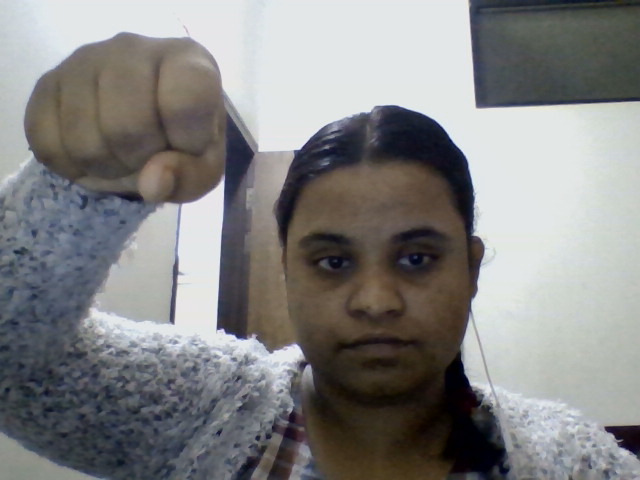Yes: (7, 16, 306, 220)
